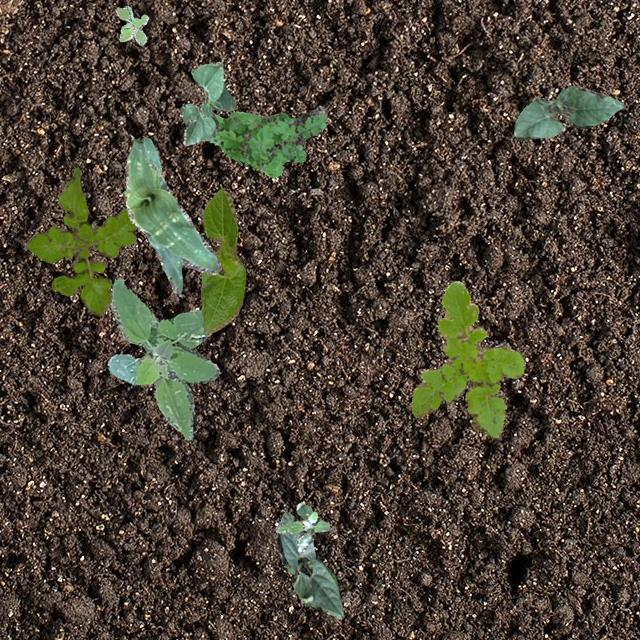crop: (122, 136, 220, 296), (276, 512, 344, 618), (200, 186, 244, 334), (512, 84, 622, 140), (180, 60, 234, 144)
weed: (106, 277, 218, 438), (410, 279, 524, 436), (24, 166, 136, 316), (208, 105, 326, 177), (274, 500, 328, 550), (115, 4, 146, 44)
